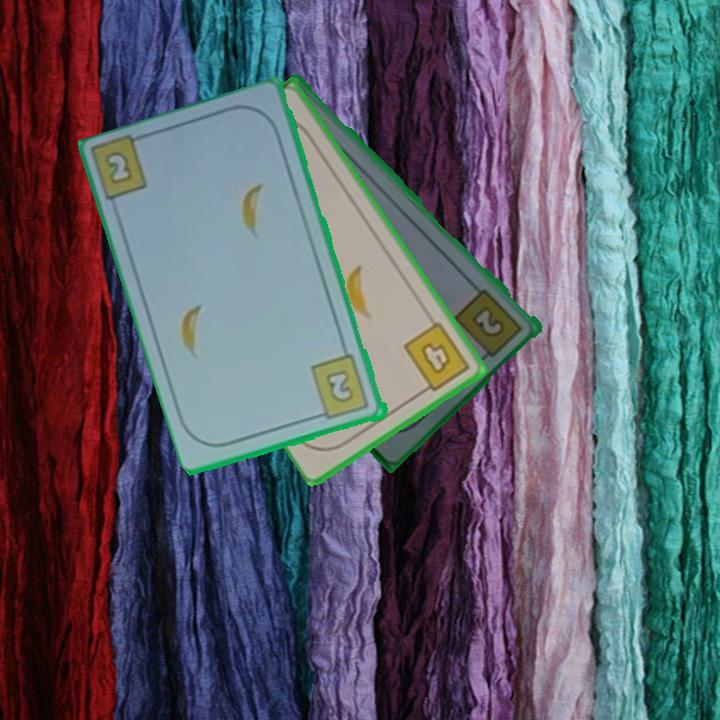2b: (451, 285, 527, 364), (307, 351, 373, 423), (105, 151, 133, 184)
4b: (400, 318, 474, 398)
